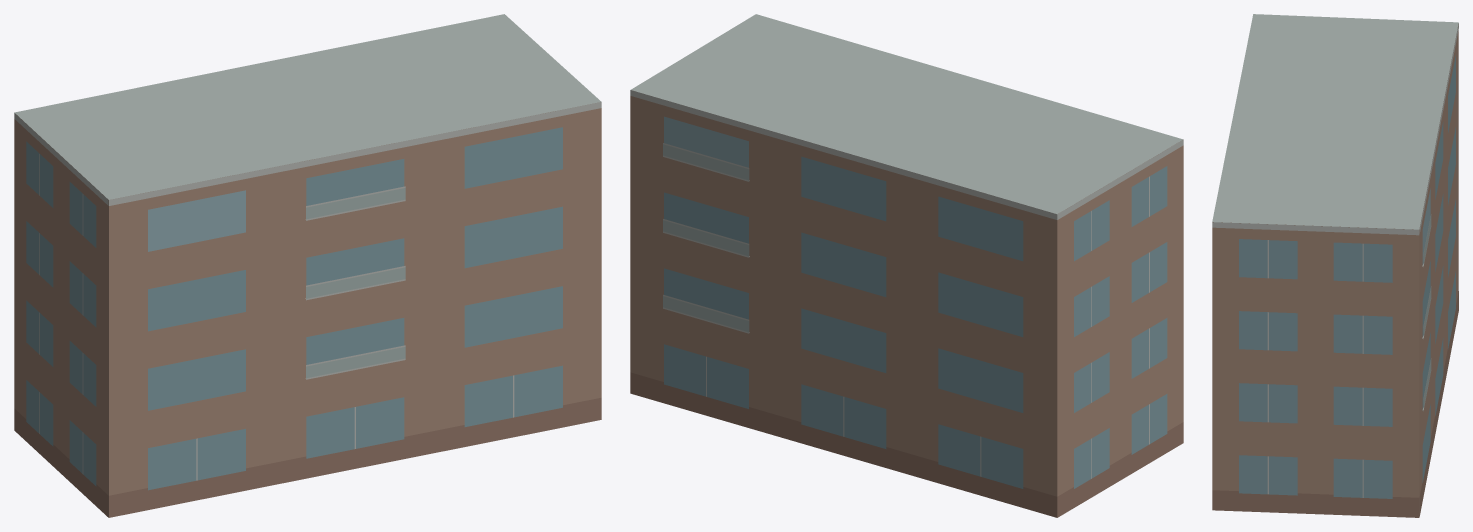
The model's file is survey-upis-32994700.glb.
The picture shows the model from 3 angles, left to right: view 1: azimuth 30°, elevation 25°; view 2: azimuth 150°, elevation 25°; view 3: azimuth 270°, elevation 25°; orthographic projection. The views are drawn at different scales.
Visible parts, largest first — view 1: survey-upis-32994700.tmp; view 2: survey-upis-32994700.tmp; view 3: survey-upis-32994700.tmp.
Part boxes in pixels (<box>): survey-upis-32994700.tmp: <box>14,14,601,517</box>; survey-upis-32994700.tmp: <box>630,14,1183,517</box>; survey-upis-32994700.tmp: <box>1212,14,1458,517</box>.
Bounding box in the file's own units: 20.15 × 12.55 × 9.74.
